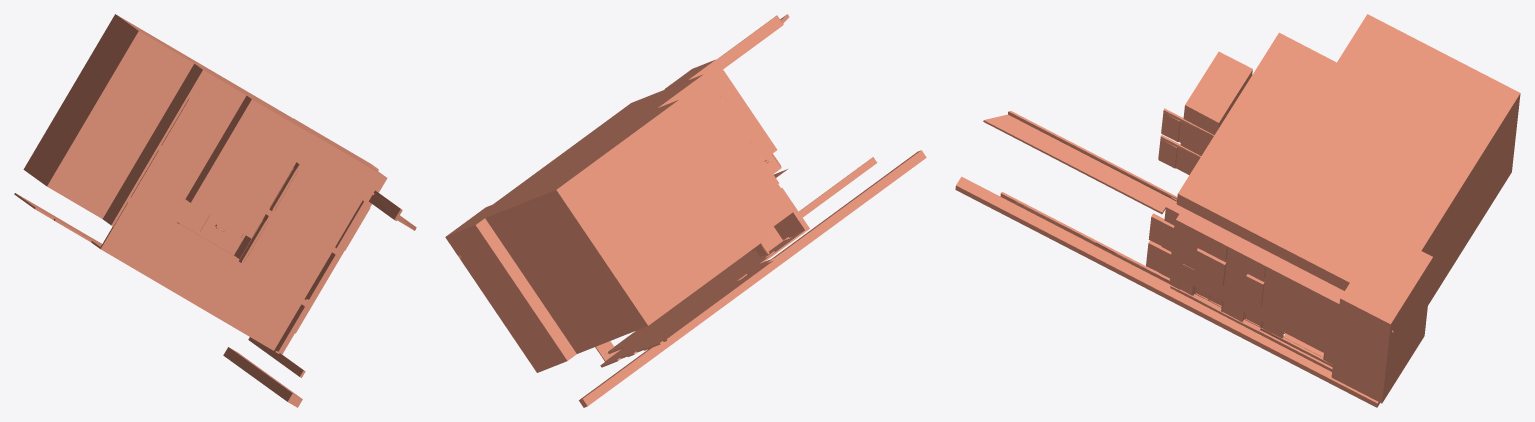
The picture shows the model from 3 angles, left to right: view 1: azimuth 30°, elevation 25°; view 2: azimuth 150°, elevation 25°; view 3: azimuth 270°, elevation 25°; orthographic projection. The views are drawn at different scales.
Visible parts, largest first — view 1: mesh; view 2: mesh; view 3: mesh.
Boxes of the visible parts, x1=… form: mesh: x1=14, y1=14, x2=416, y2=407; mesh: x1=445, y1=14, x2=926, y2=407; mesh: x1=955, y1=14, x2=1520, y2=407.
Size of the model in its own units: 20.06 by 19.7 by 29.09.
